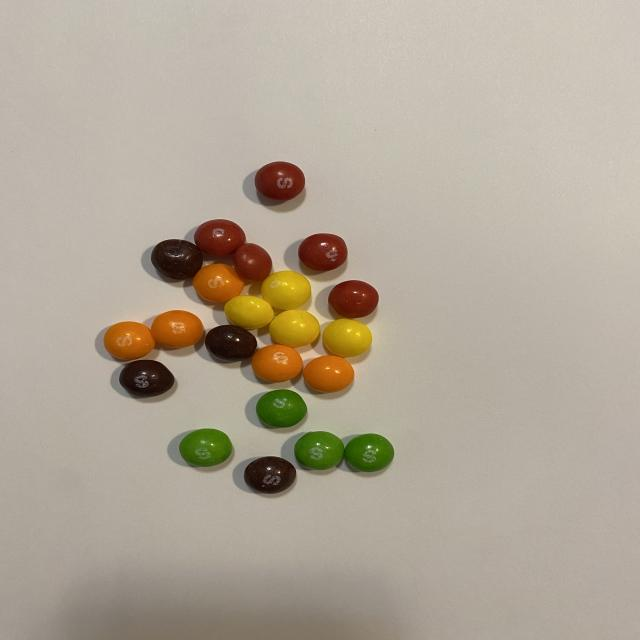smartie: (150, 239, 202, 279), (118, 360, 174, 397), (178, 429, 232, 467), (254, 161, 305, 201), (150, 310, 203, 348), (261, 270, 311, 310), (243, 457, 295, 495), (255, 390, 307, 428), (204, 325, 257, 362), (322, 318, 372, 357), (294, 432, 344, 471), (328, 280, 379, 318), (103, 322, 154, 360), (251, 344, 302, 382), (269, 310, 320, 348), (193, 219, 245, 256), (344, 434, 394, 472), (303, 356, 354, 393), (298, 233, 347, 271), (224, 296, 273, 329), (232, 243, 272, 281)
